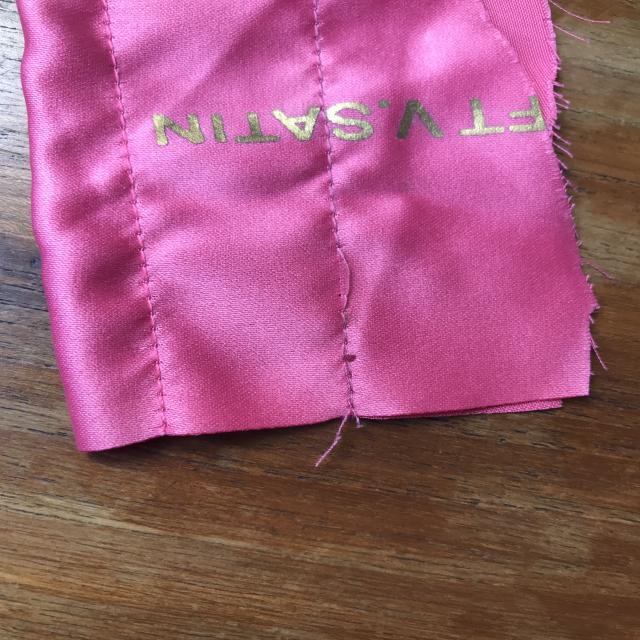skip: (322, 229, 372, 329)
